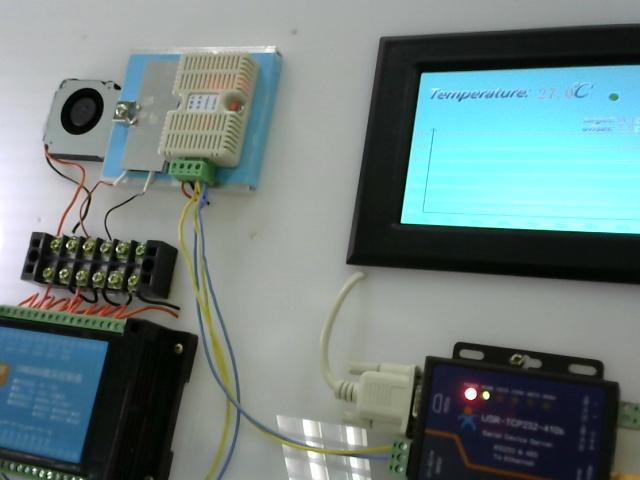fan: (34, 69, 110, 168)
termperature: (169, 53, 257, 169)
